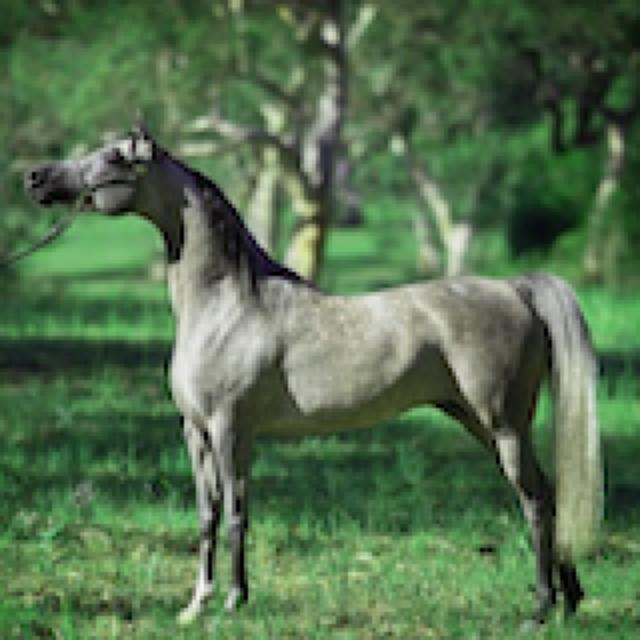Horse: (20, 112, 616, 632)
